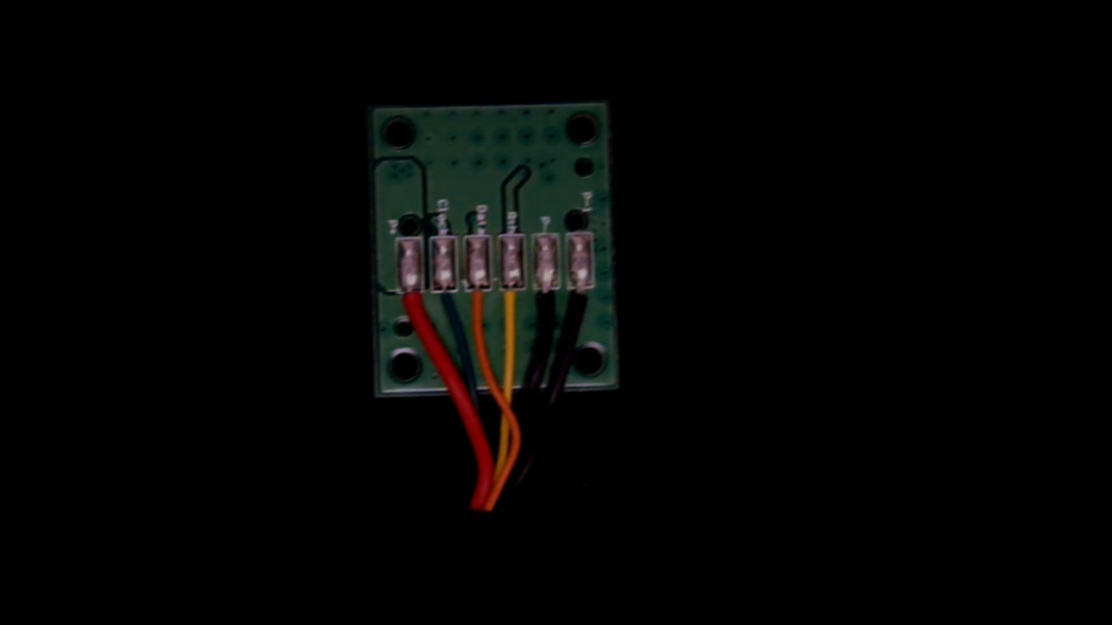Black: (534, 273, 559, 322)
Black1: (568, 273, 593, 328)
Green: (431, 271, 458, 326)
Orange: (465, 272, 491, 331)
Red: (397, 272, 425, 323)
Yellow: (500, 272, 524, 329)
